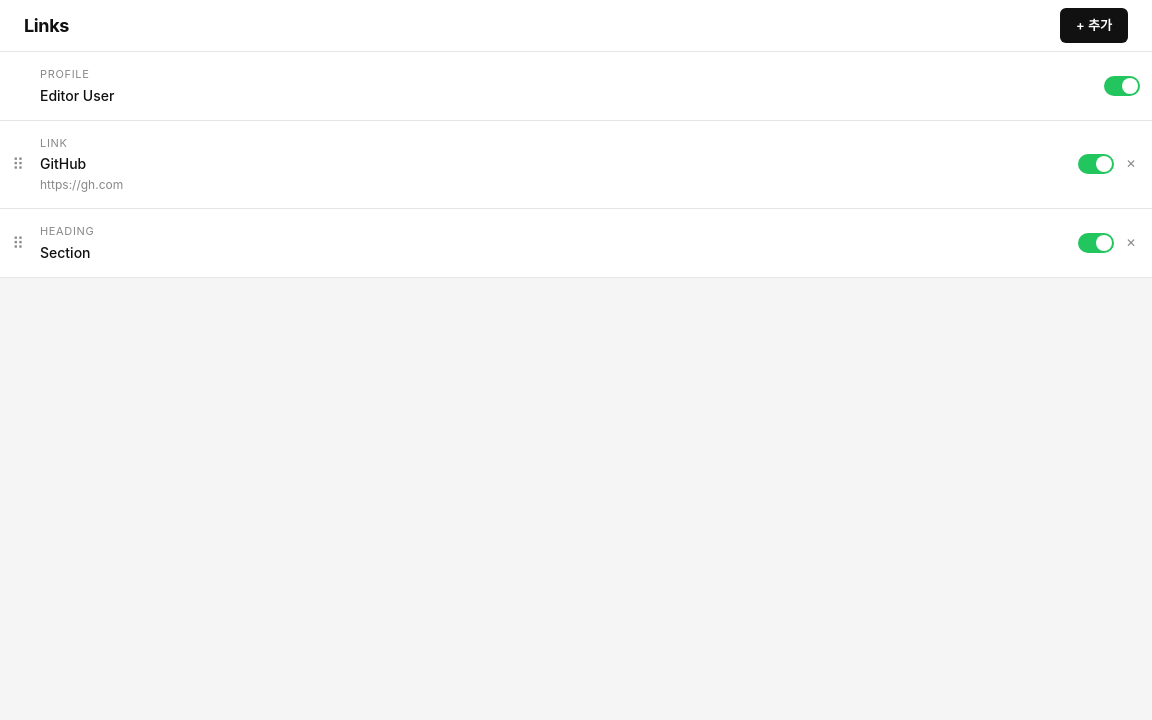
Test: Editor › opens AddBlockModal when '+ 추가' is clicked
Expected: the text "블록 추가" is not shown
Click the button "+ 추가" at (1094, 26), box [1060,8,1128,43]
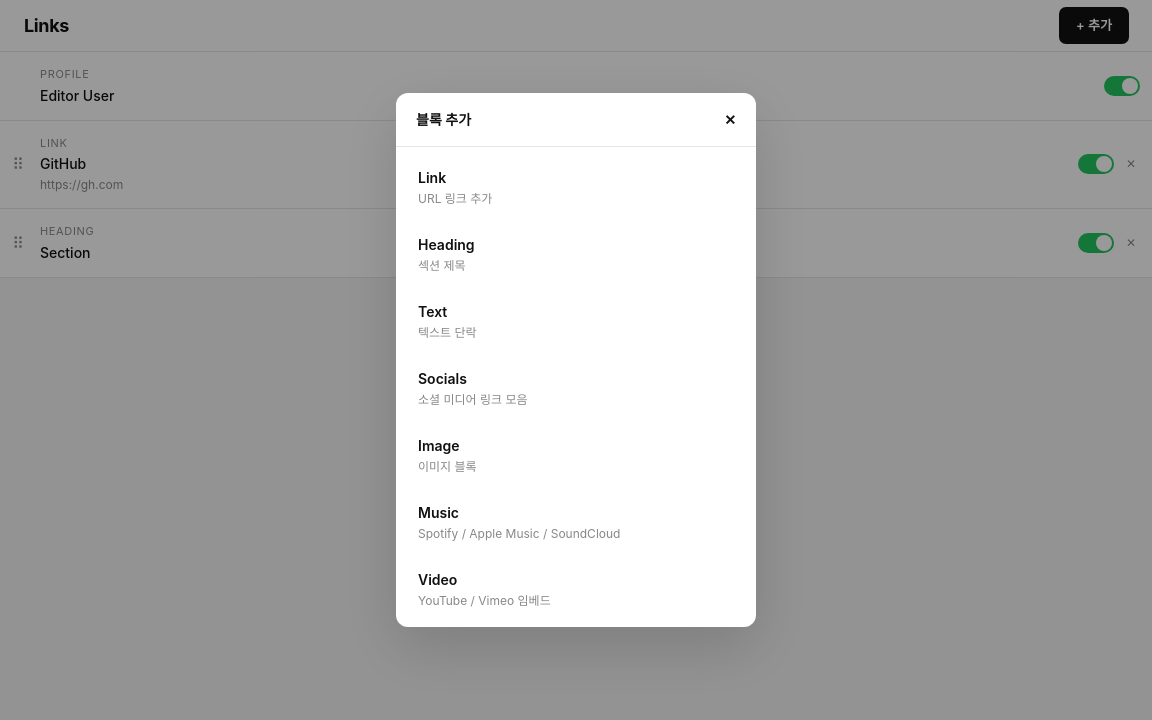
Expected: the heading "블록 추가" is shown, [416,109,471,130]
